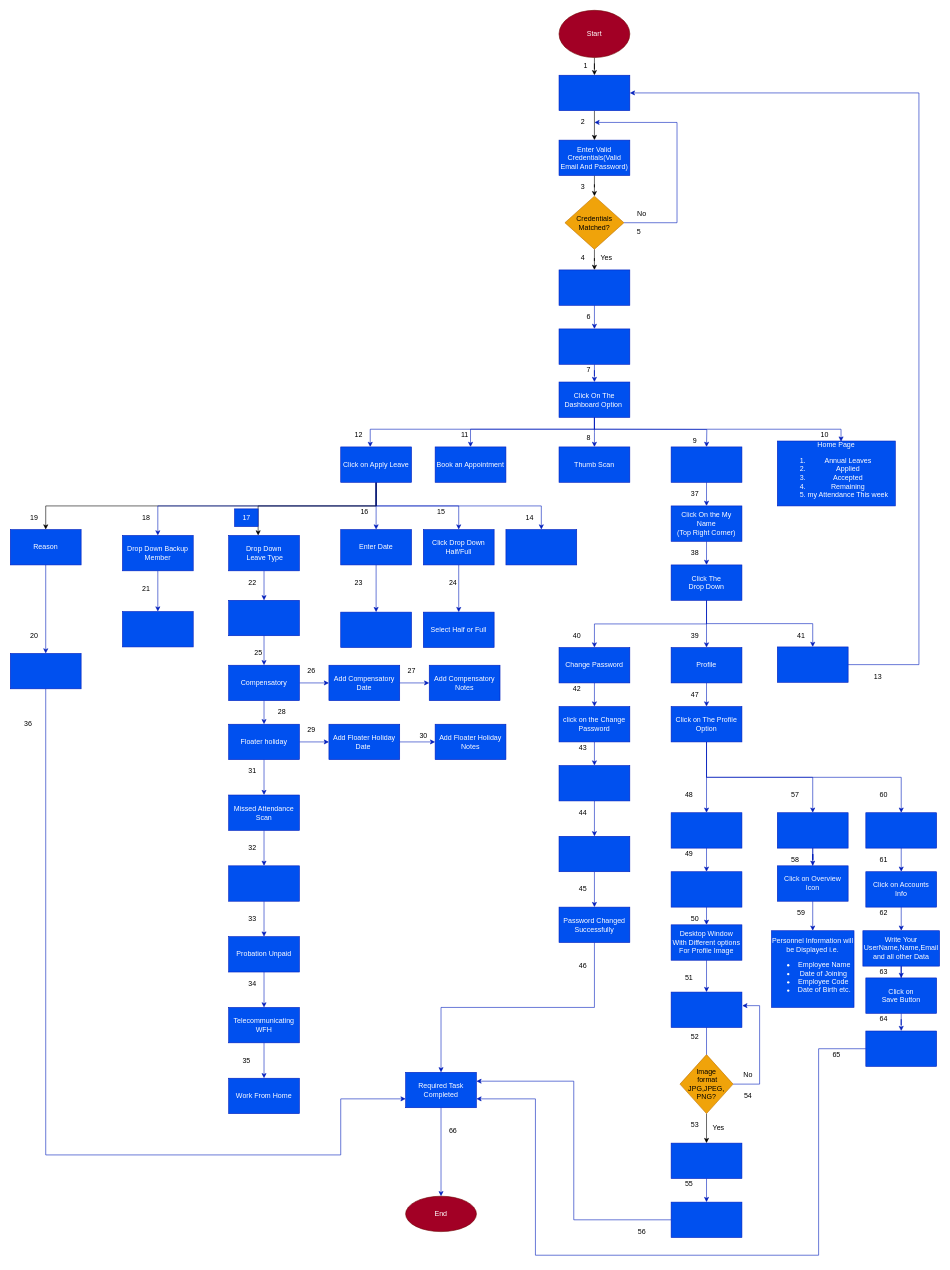
Image size: 950x1270. Some labels were removed from this diagram. The centre of each missing label's shape, as x and y in pixels:
Account's Info: the point at 901,830
Apply: the point at 45,671
Click On Camera Beside Profile Picture icon: the point at 706,889
Click the Open Icon: the point at 706,1161
Confirm New Password By Entering It Again: the point at 594,854
EMS Event: the point at 263,618
Enter Your New Password: the point at 594,783
Home Page: the point at 594,346
Log Out: the point at 812,664
Login Page: the point at 594,93
My Name(Top Right Corner): the point at 706,464
Number Of Days: the point at 541,547
Overview Icon: the point at 812,830
Picture is Succefully Added: the point at 706,1220
Probation: the point at 263,883
Profile Picture icon: the point at 706,830
Select Any Member from the List: the point at 157,629
Select From Calendar: the point at 376,630
Select Photo from Your Device: the point at 706,1009
Succefully Logged in: the point at 594,287
User Update Successfully: the point at 901,1048
